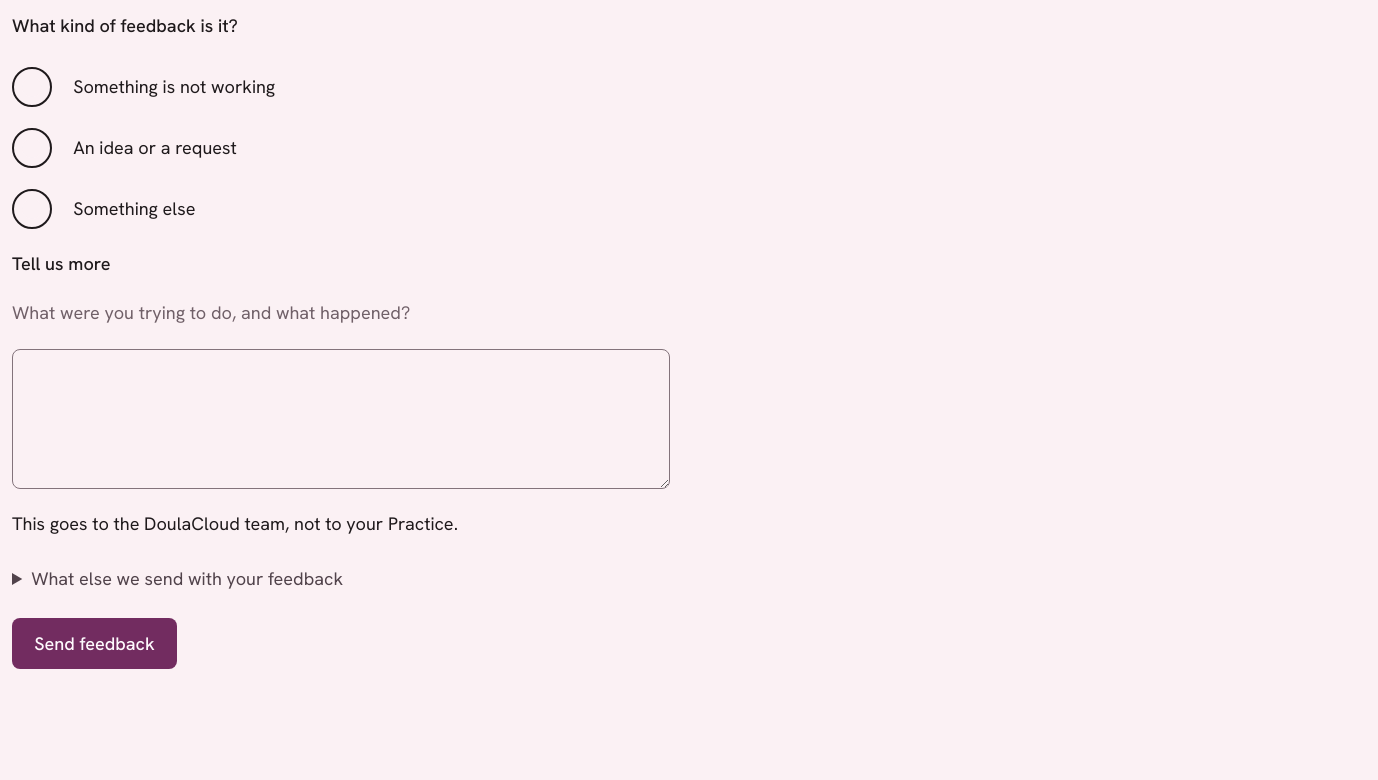
Test case: FeedbackForm › refuses an empty submit with the error summary, and marks the radio group
What coordinates should you click on to do the following:
click the button "Send feedback"
I would click on:
 (94, 644)
Its box is x1=12 y1=618 x2=177 y2=670.
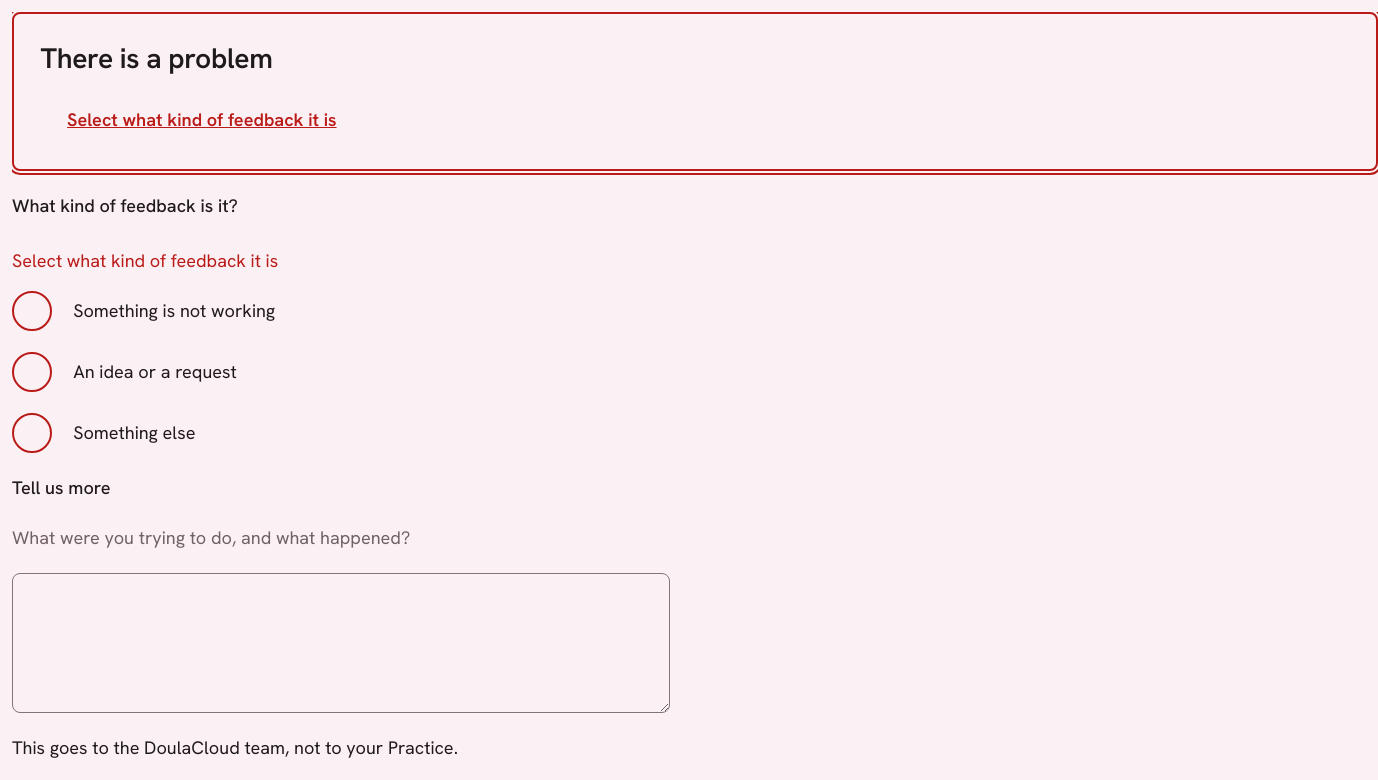
Check: the heading "There is a problem" is shown, box x1=40 y1=40 x2=273 y2=76
